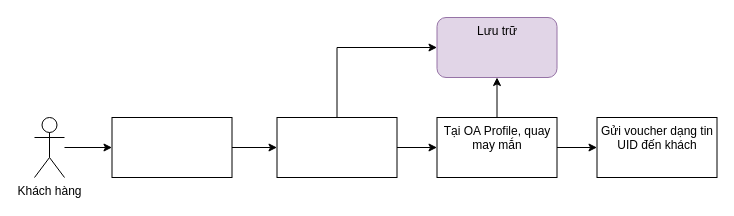
The diagram is 734 pixels wide and 216 high, and some of its shapes have lost their labels. Each missing label, with the centre of its shape:
Mua hàng offline: (171,147)
Quét QR, Follow OA: (336,147)
